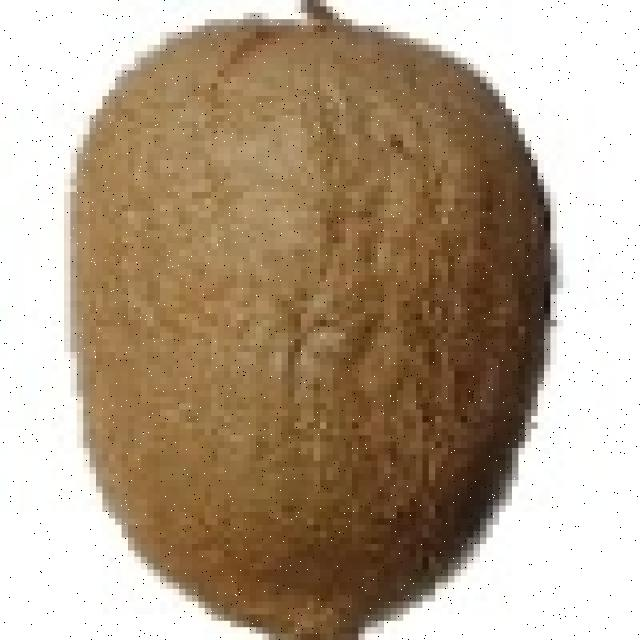kiwi: (70, 0, 538, 627)
